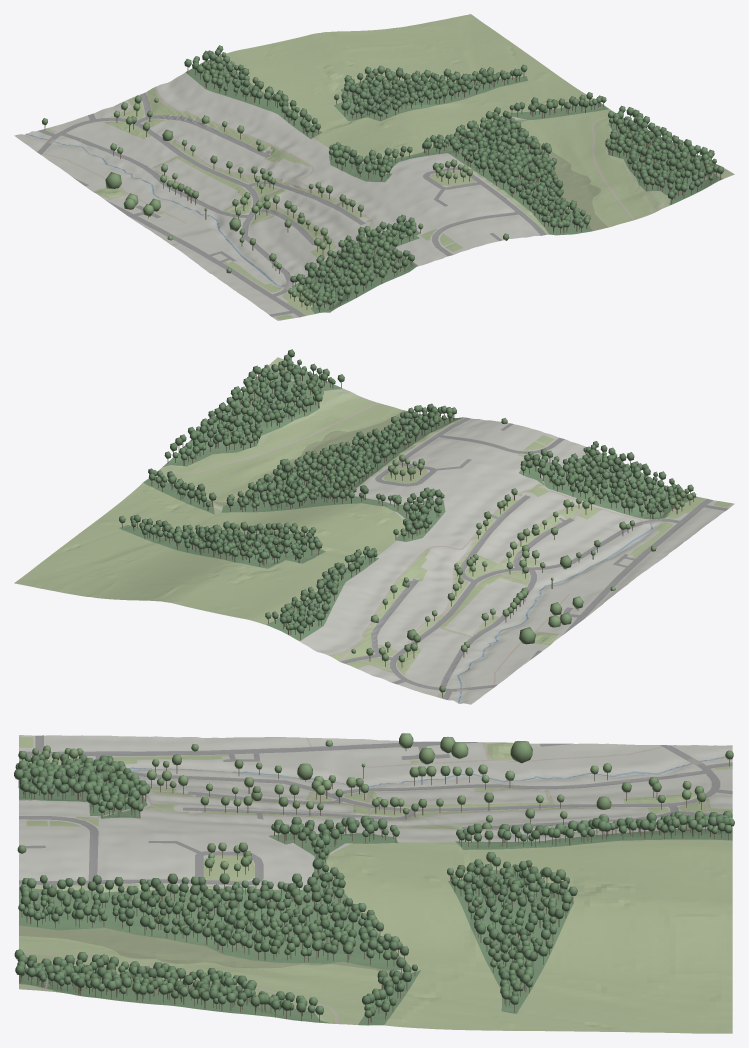
The picture shows the model from 3 angles, top to bottom: view 1: azimuth 30°, elevation 25°; view 2: azimuth 150°, elevation 25°; view 3: azimuth 270°, elevation 25°; orthographic projection. The views are drawn at different scales.
Parts seen in each view (by area): view 1: t14_00_terrain, way/70451956@t14_00, relation/11168015@t14_00_canopy, t14_00_roads_minor, way/234109120@t14_00, way/169825944@t14_00_canopy, t14_00_trees_mapped, relation/11168015@t14_00, way/829253357@t14_00_canopy, way/829253345@t14_00_canopy, t14_00_roads_path, way/169825944@t14_00 (+8 smaller); view 2: t14_00_terrain, way/70451956@t14_00, relation/11168015@t14_00_canopy, relation/11168015@t14_00, t14_00_roads_minor, way/234109120@t14_00, way/169825944@t14_00_canopy, t14_00_trees_mapped, way/829253357@t14_00_canopy, way/829253345@t14_00_canopy, t14_00_roads_path, way/169825944@t14_00 (+8 smaller); view 3: way/70451956@t14_00, t14_00_terrain, relation/11168015@t14_00_canopy, relation/11168015@t14_00, t14_00_roads_minor, way/829253357@t14_00_canopy, t14_00_trees_mapped, way/234109120@t14_00, way/169825944@t14_00_canopy, way/829253345@t14_00_canopy, way/234288594@t14_00, way/829253357@t14_00 (+8 smaller).
Part boxes in pixels (bbox=[...]): t14_00_terrain: bbox=[14, 72, 720, 320]; way/70451956@t14_00: bbox=[219, 14, 592, 161]; relation/11168015@t14_00_canopy: bbox=[329, 92, 724, 233]; t14_00_roads_minor: bbox=[37, 93, 546, 317]; way/234109120@t14_00: bbox=[521, 109, 650, 227]; way/169825944@t14_00_canopy: bbox=[290, 214, 423, 311]; t14_00_trees_mapped: bbox=[42, 95, 509, 309]; relation/11168015@t14_00: bbox=[329, 103, 722, 235]; way/829253357@t14_00_canopy: bbox=[334, 64, 527, 120]; way/829253345@t14_00_canopy: bbox=[184, 45, 320, 136]; t14_00_roads_path: bbox=[35, 86, 724, 282]; way/169825944@t14_00: bbox=[291, 228, 420, 313]; t14_00_terrain: bbox=[18, 418, 734, 704]; way/70451956@t14_00: bbox=[14, 483, 405, 624]; relation/11168015@t14_00_canopy: bbox=[148, 349, 456, 540]; relation/11168015@t14_00: bbox=[143, 363, 462, 541]; t14_00_roads_minor: bbox=[340, 417, 728, 699]; way/234109120@t14_00: bbox=[155, 397, 403, 502]; way/169825944@t14_00_canopy: bbox=[520, 441, 693, 518]; t14_00_trees_mapped: bbox=[351, 418, 696, 697]; way/829253357@t14_00_canopy: bbox=[119, 514, 322, 566]; way/829253345@t14_00_canopy: bbox=[265, 546, 377, 639]; t14_00_roads_path: bbox=[160, 366, 644, 696]; way/169825944@t14_00: bbox=[519, 450, 697, 519]; way/70451956@t14_00: bbox=[326, 839, 732, 1033]; t14_00_terrain: bbox=[19, 735, 732, 1033]; relation/11168015@t14_00_canopy: bbox=[14, 816, 417, 1024]; relation/11168015@t14_00: bbox=[19, 833, 420, 1025]; t14_00_roads_minor: bbox=[19, 735, 732, 885]; way/829253357@t14_00_canopy: bbox=[447, 852, 577, 1012]; t14_00_trees_mapped: bbox=[17, 733, 733, 876]; way/234109120@t14_00: bbox=[19, 936, 381, 1024]; way/169825944@t14_00_canopy: bbox=[14, 751, 150, 818]; way/829253345@t14_00_canopy: bbox=[456, 811, 734, 848]; way/234288594@t14_00: bbox=[19, 925, 390, 976]; way/829253357@t14_00: bbox=[448, 870, 573, 1013].
Size of the model in its own units: 503 by 58.71 by 505.
